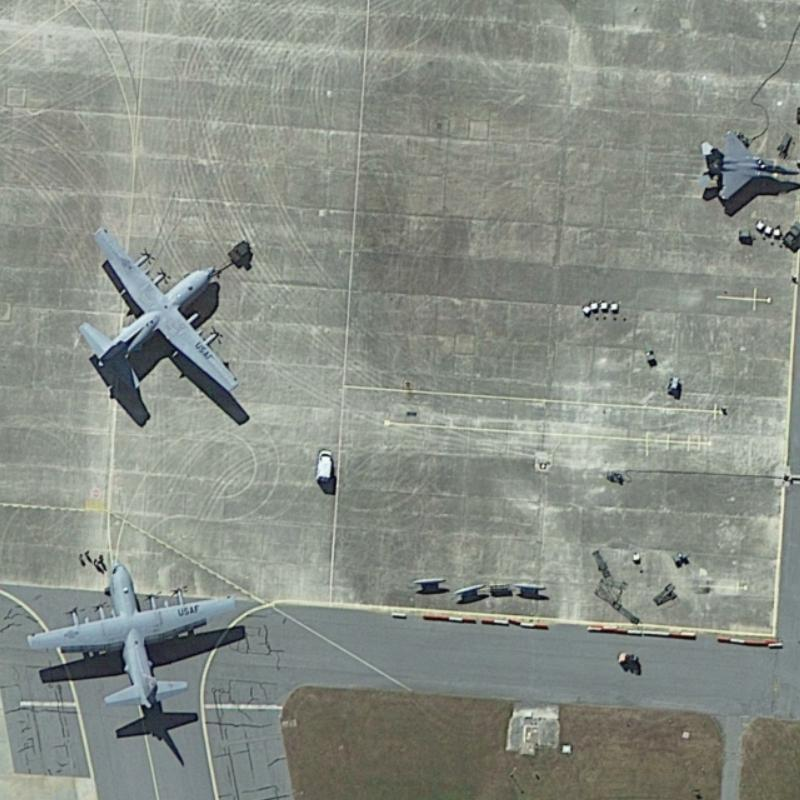A13: (696, 123, 799, 203)
A2: (20, 554, 242, 717), (75, 220, 248, 409)
